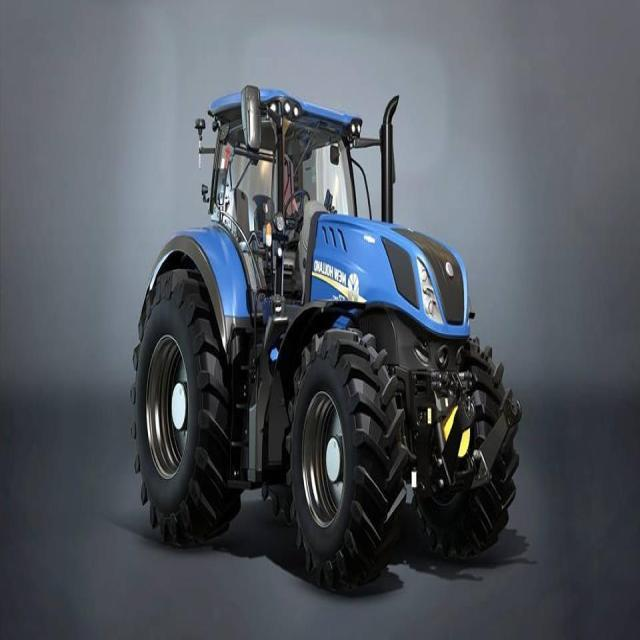Tratores - v5 YOLO V8L 2024-11-13: (121, 66, 529, 582)
